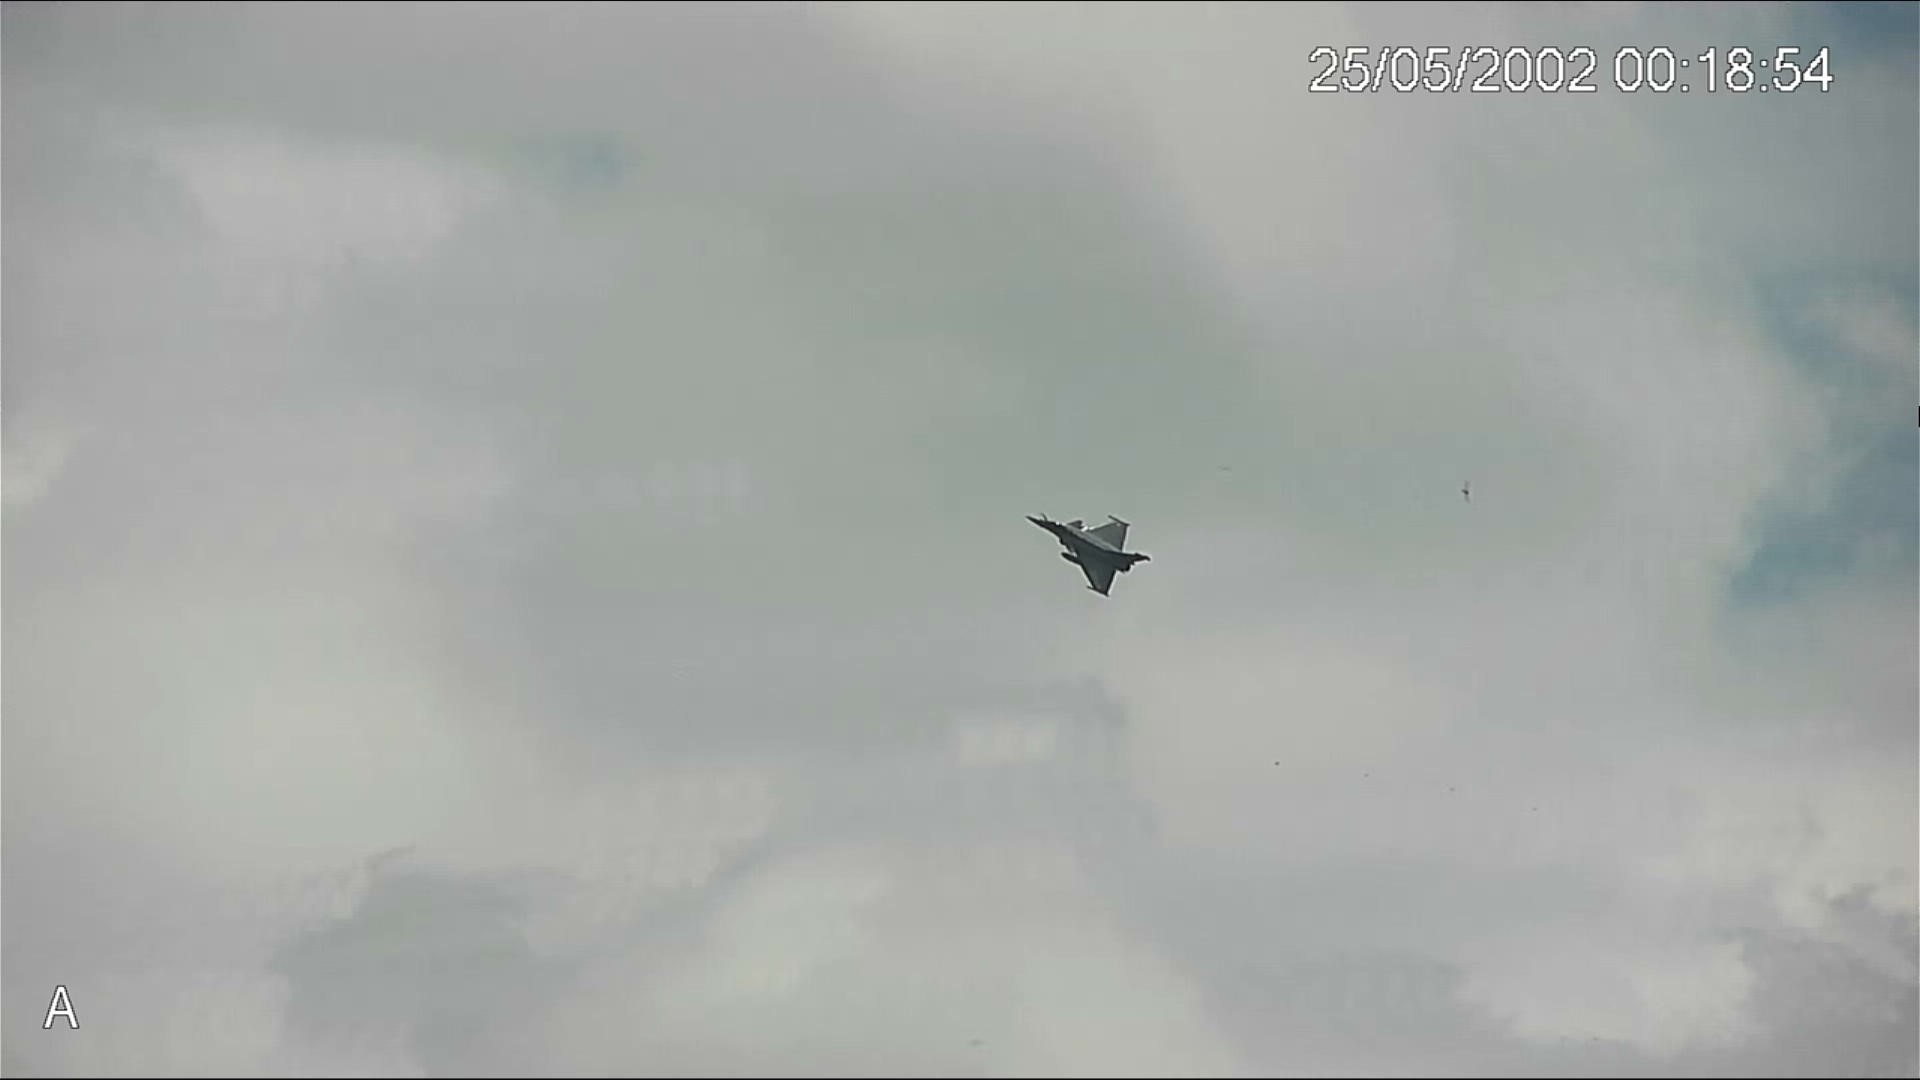SU_30: (1022, 502, 1154, 601)
